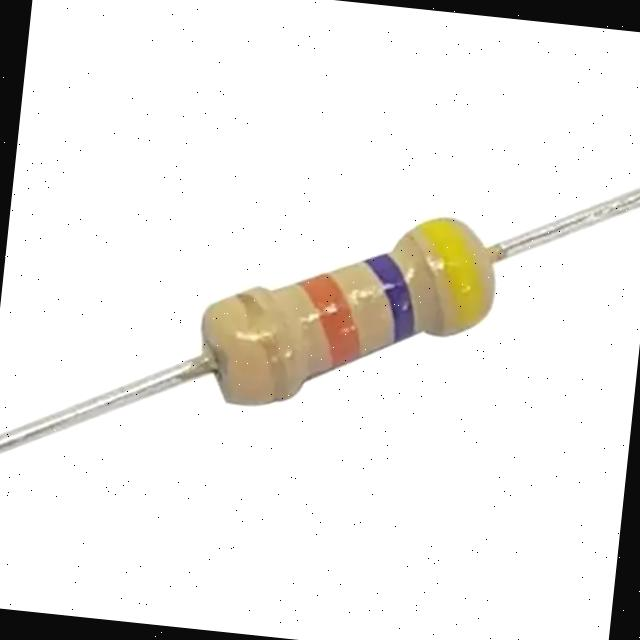gold: (233, 292, 290, 402)
orange: (294, 272, 360, 371)
resistor: (154, 171, 527, 453)
violet: (362, 254, 414, 344)
yellow: (420, 218, 488, 336)
